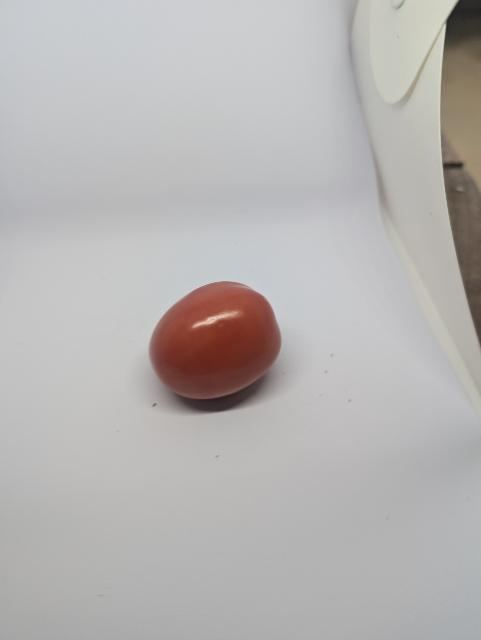red: (136, 270, 307, 412)
